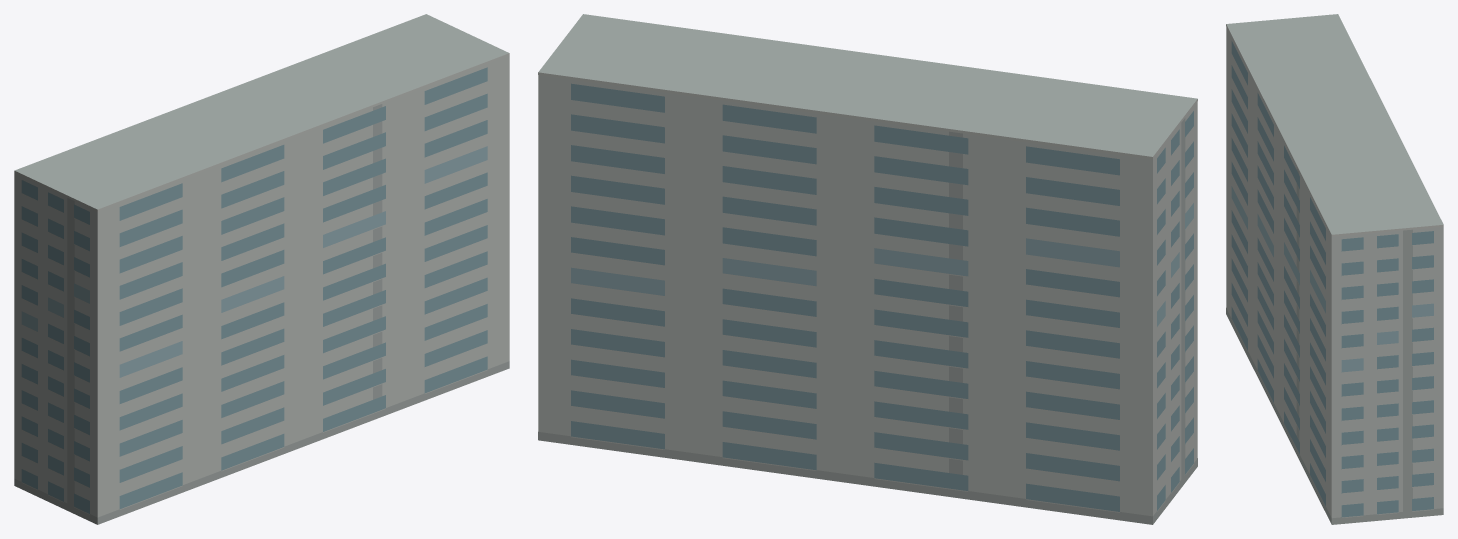
Rendered from residential-bd285f80-050c-478a-816c-df2f6c633949.glb.
3 renders of one model, left to right at view 1: azimuth 30°, elevation 25°; view 2: azimuth 150°, elevation 25°; view 3: azimuth 270°, elevation 25°, orthographic. The views are drawn at different scales.
Parts seen in each view (by area): view 1: residential-bd285f80-050c-478a-816c-df2f6c633949.tmp; view 2: residential-bd285f80-050c-478a-816c-df2f6c633949.tmp; view 3: residential-bd285f80-050c-478a-816c-df2f6c633949.tmp.
Boxes of the visible parts, <box> form: residential-bd285f80-050c-478a-816c-df2f6c633949.tmp: <box>14,14,509,524</box>; residential-bd285f80-050c-478a-816c-df2f6c633949.tmp: <box>538,14,1197,524</box>; residential-bd285f80-050c-478a-816c-df2f6c633949.tmp: <box>1226,14,1443,524</box>.
Bounding box in the file's own units: 53.86 × 33 × 22.44.
